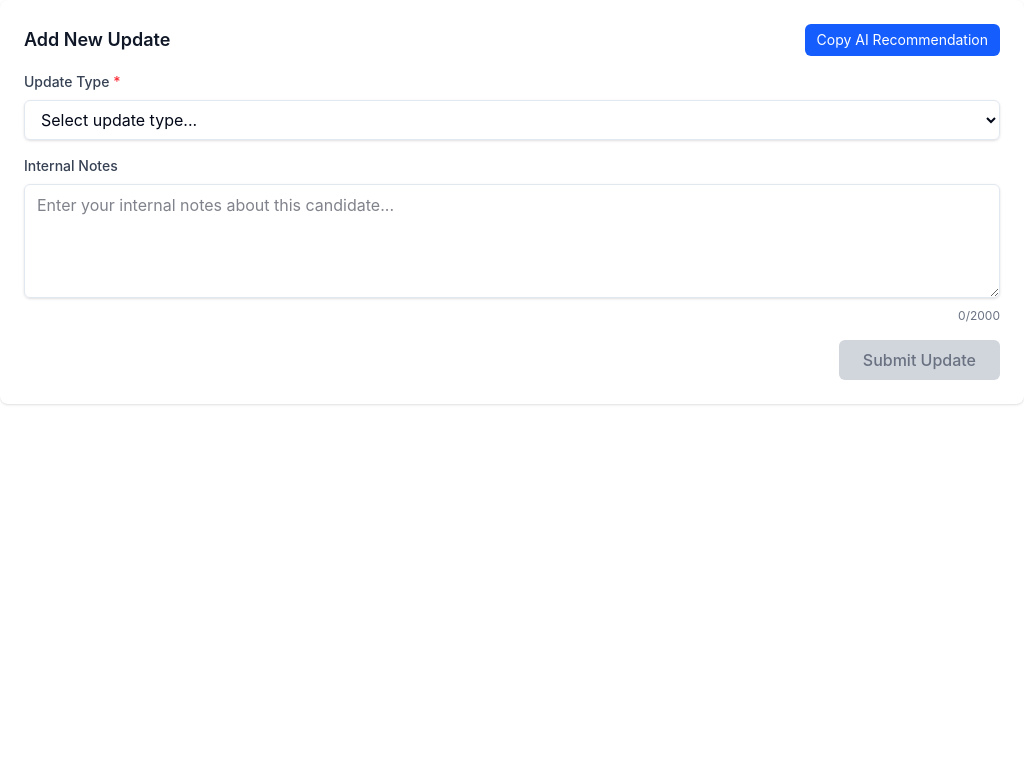
Test: DecisionForm › should copy AI recommendation when button is clicked
The image size is (1024, 768).
Click the button "Copy AI Recommendation" at (902, 40), box [804,24,1000,56]
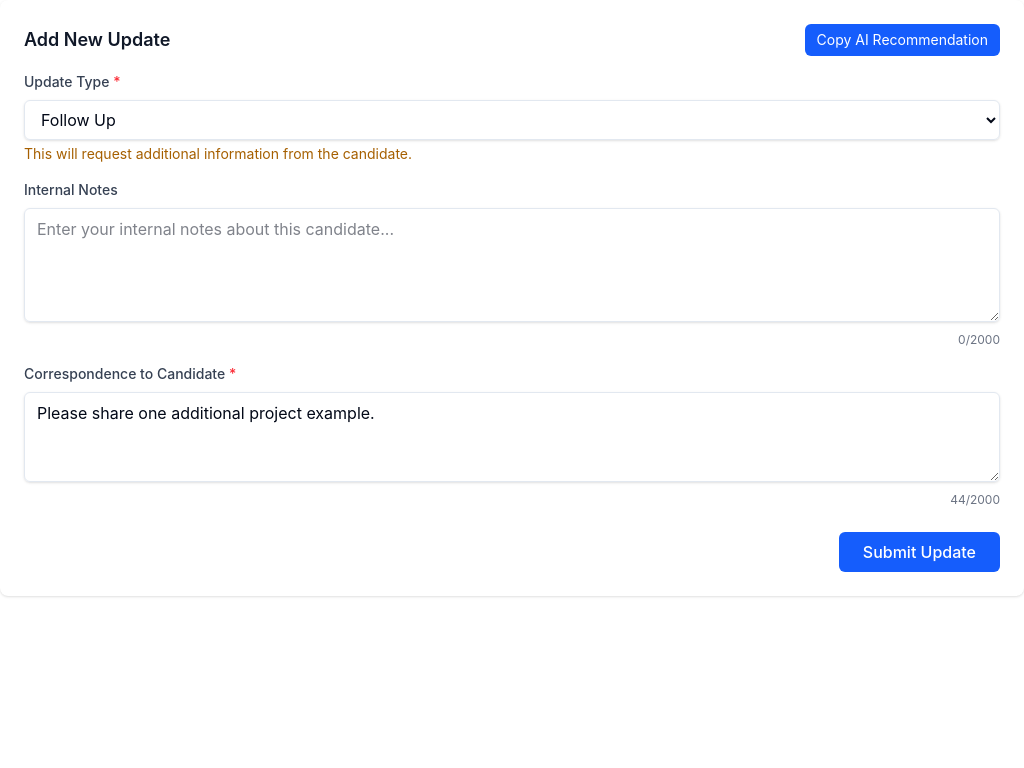
Expected: the dropdown labelled "Update Type *" shows "Follow Up", [24,100,1000,140]
Expected: the text box labelled "Correspondence to Candidate *" holds "Please share one additional project example.", [24,392,1000,482]
